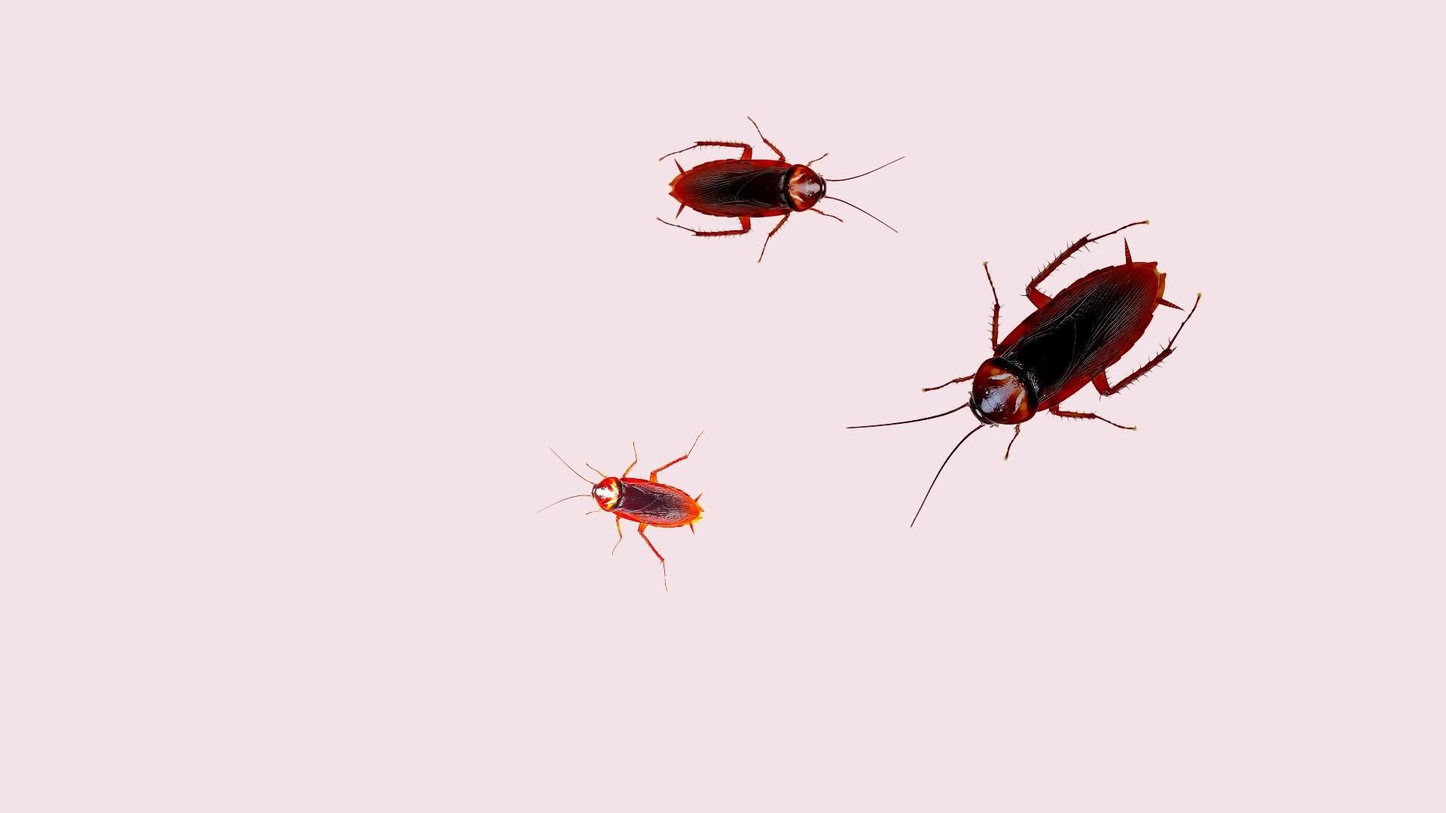cockroach: (873, 223, 1197, 512), (644, 111, 911, 265), (533, 442, 728, 571)
